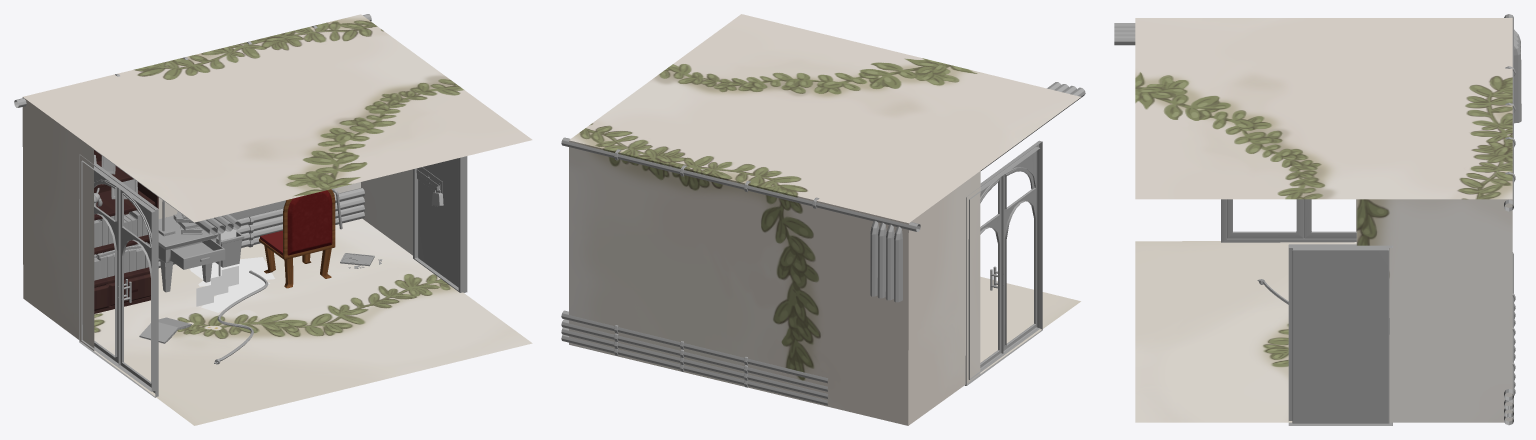
File: Ruang kerja.fbx
3 views of the same model, side by side, from view 1: azimuth 30°, elevation 25°; view 2: azimuth 150°, elevation 25°; view 3: azimuth 270°, elevation 25° (orthographic). The views are drawn at different scales.
Parts seen in each view (by area): view 1: room:ROOM, Pintu:PINTU, dudukan_kursi, polySurface73, polySurface35, laciOla:pCube1, PIPA_LOW:polySurface5, Pintu:pCube22, meja_lampu:group25Meja_KecilpCube19, meja_lampu:pCube2group25Meja_Kecil, koran:pasted__pPlane6group18, Kaki_kursi_kanan_blkg1 (+4 smaller); view 2: room:ROOM, PIPA_LOW:polySurface5, polySurface73, polySurface35, PIPA_LOW:polySurface28polySurface70; view 3: room:ROOM, Pintu:PINTU, PIPA_LOW:polySurface5, Pintu:pCube22, polySurface73, polySurface35.
Boxes of the visible parts, left/top/right/bottom form: room:ROOM: left=22, top=14, right=532, bottom=425; Pintu:PINTU: left=418, top=158, right=458, bottom=287; dudukan_kursi: left=283, top=189, right=335, bottom=259; polySurface73: left=94, top=170, right=154, bottom=391; polySurface35: left=79, top=154, right=158, bottom=397; laciOla:pCube1: left=94, top=150, right=158, bottom=313; PIPA_LOW:polySurface5: left=14, top=14, right=371, bottom=267; Pintu:pCube22: left=413, top=156, right=467, bottom=292; meja_lampu:group25Meja_KecilpCube19: left=170, top=239, right=225, bottom=269; meja_lampu:pCube2group25Meja_Kecil: left=158, top=215, right=218, bottom=262; koran:pasted__pPlane6group18: left=189, top=257, right=274, bottom=286; Kaki_kursi_kanan_blkg1: left=264, top=245, right=331, bottom=288; room:ROOM: left=569, top=14, right=1080, bottom=425; PIPA_LOW:polySurface5: left=561, top=82, right=1085, bottom=405; polySurface73: left=980, top=147, right=1038, bottom=370; polySurface35: left=965, top=140, right=1042, bottom=385; PIPA_LOW:polySurface28polySurface70: left=614, top=149, right=819, bottom=387; room:ROOM: left=1135, top=18, right=1512, bottom=422; Pintu:PINTU: left=1292, top=248, right=1389, bottom=423; PIPA_LOW:polySurface5: left=1114, top=14, right=1521, bottom=425; Pintu:pCube22: left=1288, top=244, right=1392, bottom=425; polySurface73: left=1227, top=199, right=1356, bottom=238; polySurface35: left=1221, top=199, right=1356, bottom=242.
Bounding box in the file's own units: 20.22 × 11.25 × 18.38.
